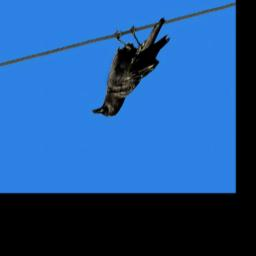Crow: (89, 17, 171, 118)
